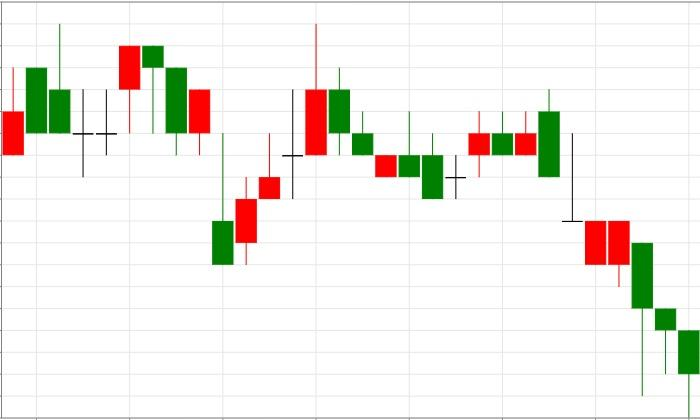bearish_engulfing_fall: (422, 88, 561, 199)
inverse_hammer_rise: (142, 45, 233, 265)
